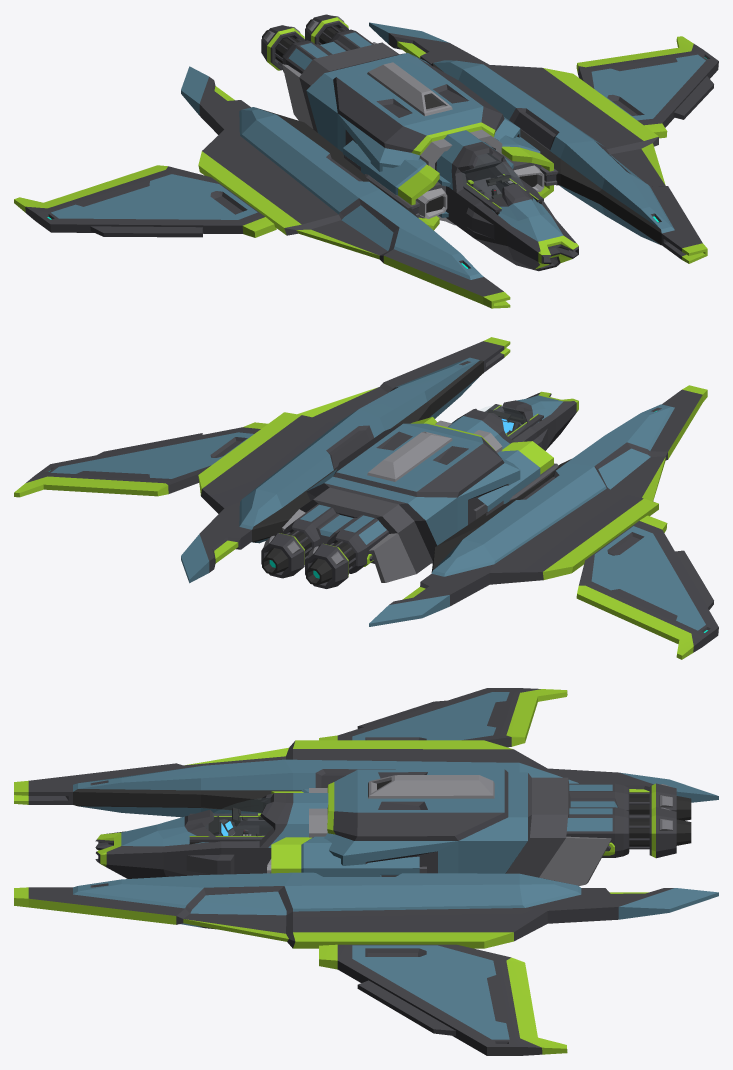
The model's file is SM_Ship_Fighter_05_Cockpit.fbx.
3 renders of one model, top to bottom at view 1: azimuth 30°, elevation 25°; view 2: azimuth 150°, elevation 25°; view 3: azimuth 270°, elevation 25°, orthographic. The views are drawn at different scales.
Parts seen in each view (by area): view 1: SM_Ship_Fighter_05, Cockpit_Interior; view 2: SM_Ship_Fighter_05, Cockpit_Interior; view 3: SM_Ship_Fighter_05, Cockpit_Interior.
Part boxes in pixels (x1,y1,x2,y2): SM_Ship_Fighter_05: (14, 14, 718, 308); Cockpit_Interior: (463, 174, 543, 214); SM_Ship_Fighter_05: (14, 337, 718, 659); Cockpit_Interior: (485, 404, 543, 439); SM_Ship_Fighter_05: (14, 688, 718, 1055); Cockpit_Interior: (189, 807, 268, 844).
Bounding box in the file's own units: 17.77 × 2.72 × 14.76.
